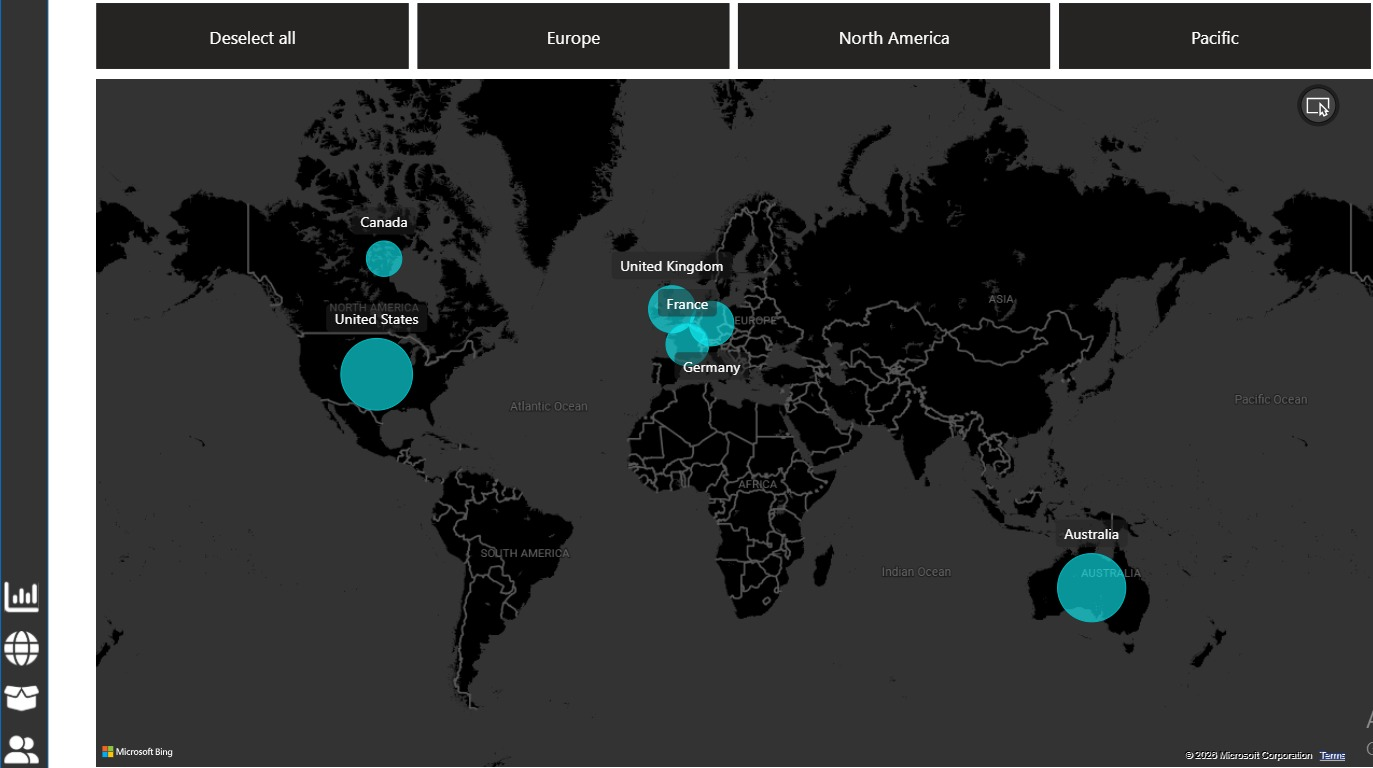

This screenshot's page, from the dashboard's own definition file:
{"tool":"powerbi","page":{"name":"Map","canvas":[1280,720],"ordinal":1},"visuals":[{"type":"shape","box":[0,0,45,720.2],"z":0},{"type":"actionButton","box":[0,536.2,45,40],"z":0,"group":"g1"},{"type":"map","fields":{"Category":["Territory Lookup.Country"],"Size":["Measure Table.Total Orders"]},"box":[85,71.2,1195,648.8],"z":1000},{"type":"actionButton","box":[0,583.3,45,40],"z":1000,"group":"g1"},{"type":"actionButton","box":[0,630.4,45,40],"z":2000,"group":"g1"},{"type":"advancedSlicerVisual","fields":{"Values":["Territory Lookup.Continent"]},"box":[85,0,1195,71.2],"z":3000},{"type":"actionButton","box":[0,677.5,45,40],"z":3000,"group":"g1"},{"type":"group","id":"g1","title":"trans page","box":[0,536.2,45,181.2],"z":4000}]}

Visuals, with their boxes in screenshot pixels (x1, y1, x2, y2):
shape: crop(43, 0, 90, 758)
actionButton: crop(43, 565, 90, 607)
map - Territory Lookup.Country x Measure Table.Total Orders: crop(132, 75, 1372, 758)
actionButton: crop(43, 614, 90, 656)
actionButton: crop(43, 664, 90, 706)
advancedSlicerVisual - Territory Lookup.Continent: crop(132, 0, 1372, 75)
actionButton: crop(43, 713, 90, 755)
"trans page" group: crop(43, 565, 90, 755)
